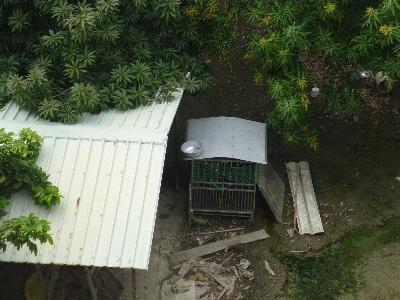bowl: (181, 139, 205, 157)
